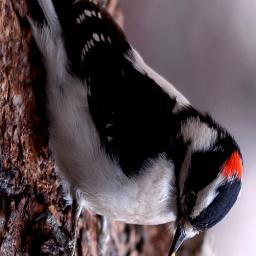Woodpecker: (14, 0, 249, 256)
